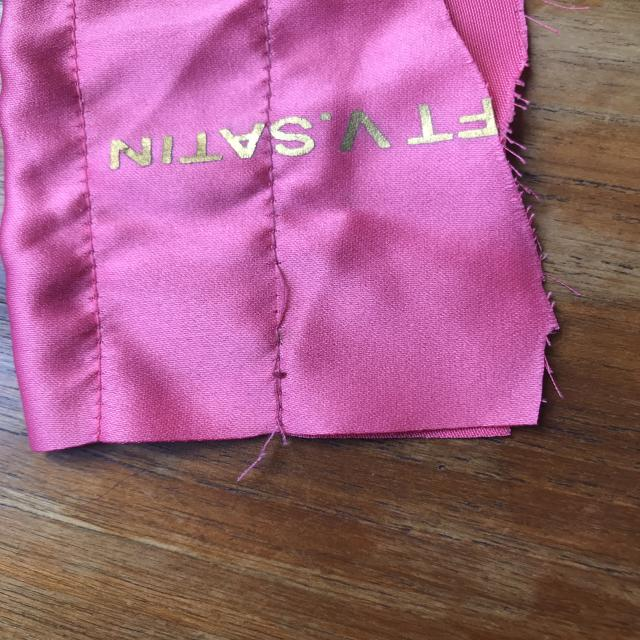skip: (248, 255, 307, 339)
